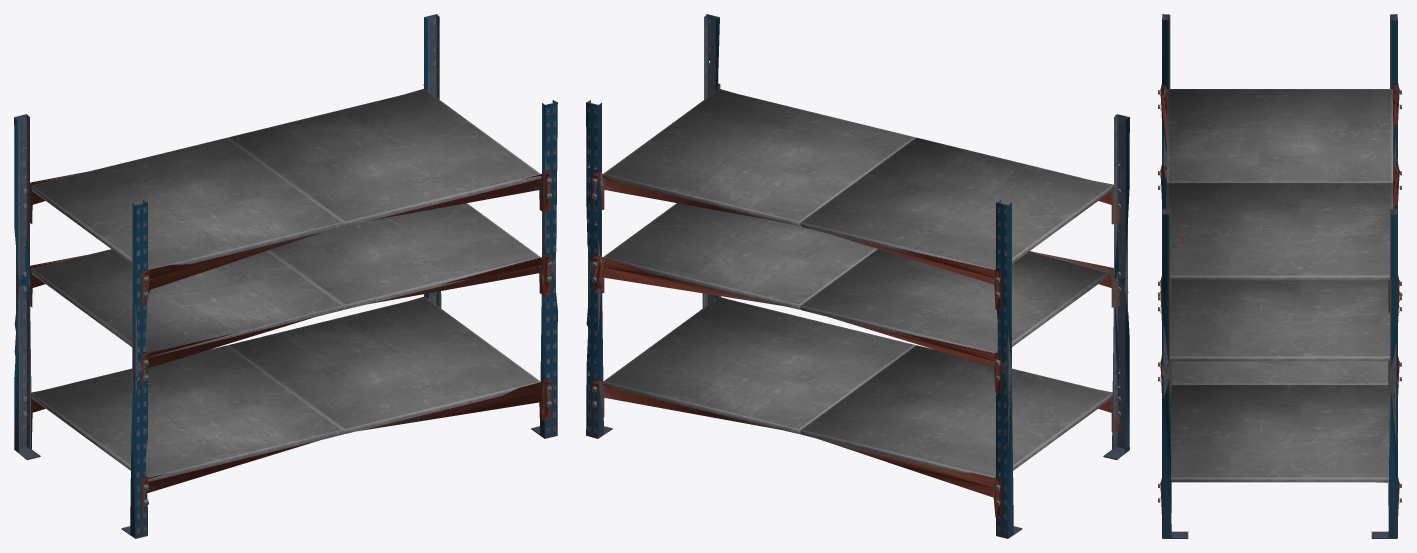
The model's file is rack_large_empty_a02.glb.
3 views of the same model, side by side, from view 1: azimuth 30°, elevation 25°; view 2: azimuth 150°, elevation 25°; view 3: azimuth 270°, elevation 25° (orthographic). The views are drawn at different scales.
Parts seen in each view (by area): view 1: sm_rack_a02_mesh_00; view 2: sm_rack_a02_mesh_00; view 3: sm_rack_a02_mesh_00.
Boxes of the visible parts, x1,y1,x2,y2 form: sm_rack_a02_mesh_00: [14, 14, 557, 538]; sm_rack_a02_mesh_00: [586, 14, 1129, 538]; sm_rack_a02_mesh_00: [1158, 14, 1402, 538].
Size of the model in its own units: 4 by 3.01 by 2.06.
3 materials, 3 textured.
